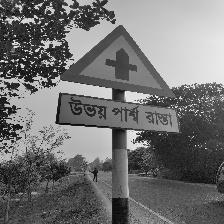Crossroad: (43, 18, 196, 144)
